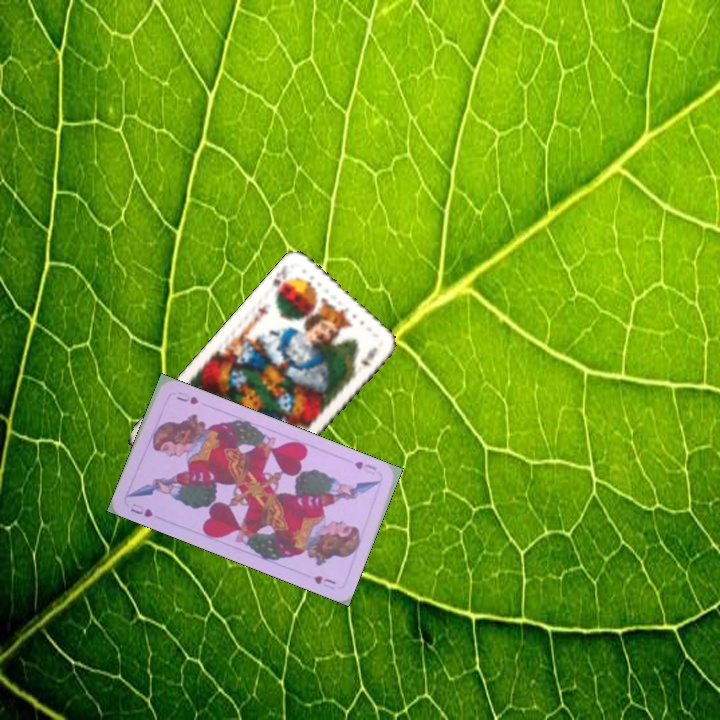HU: (126, 499, 155, 520), (351, 457, 379, 472)
SK: (268, 260, 290, 299)
